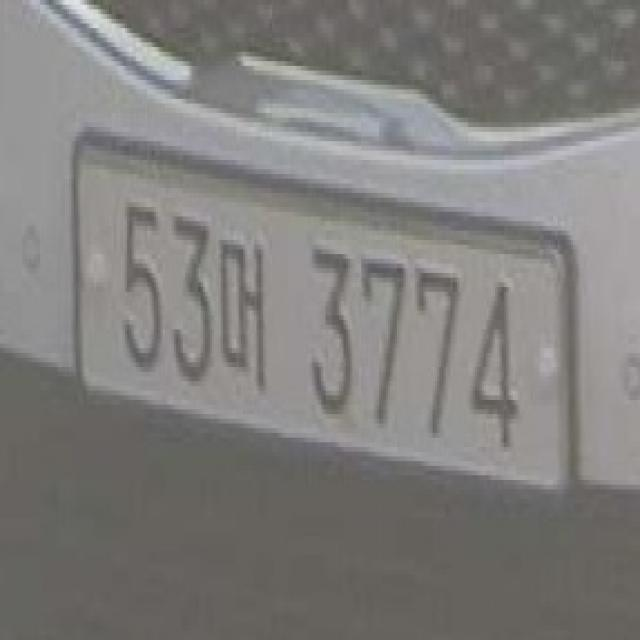3: (306, 236, 358, 432), (173, 196, 213, 402)
4: (466, 273, 527, 463)
5: (119, 183, 167, 392)
7: (413, 256, 462, 454), (360, 247, 408, 440)
license_plate: (60, 103, 589, 558)
meo: (216, 227, 274, 404)
